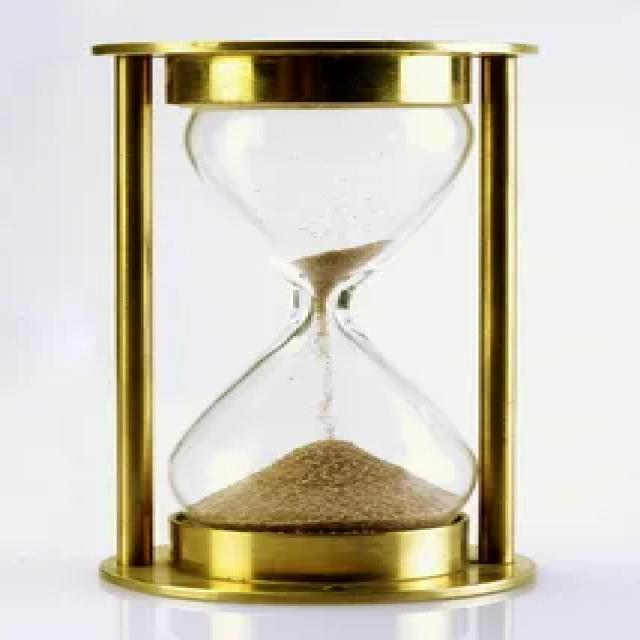clock: (84, 31, 568, 608)
